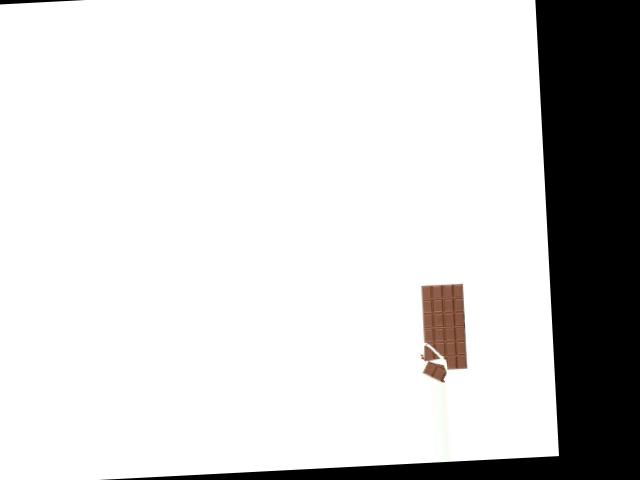chocolate: (407, 281, 474, 384)
